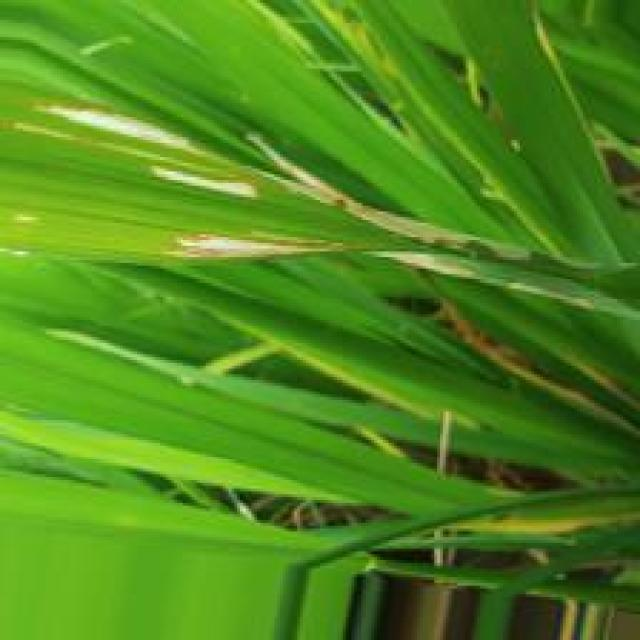Rice_Hispa: (265, 183, 548, 257), (50, 110, 203, 157), (166, 232, 358, 254), (157, 167, 260, 203)
